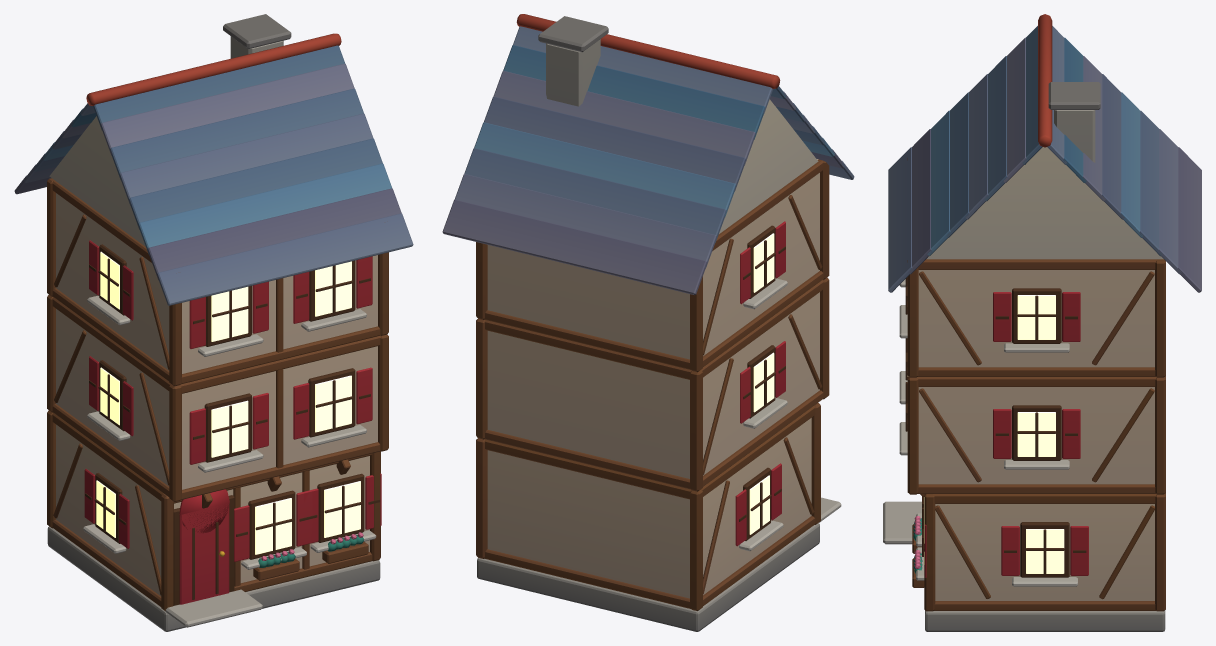
File: house_tall.glb
The picture shows the model from 3 angles, left to right: view 1: azimuth 30°, elevation 25°; view 2: azimuth 150°, elevation 25°; view 3: azimuth 270°, elevation 25°; orthographic projection. The views are drawn at different scales.
Parts seen in each view (by area): view 1: house_tall; view 2: house_tall; view 3: house_tall.
Part boxes in pixels (box(x1,y1,x2,y2)): house_tall: box(14, 14, 413, 631); house_tall: box(442, 14, 854, 631); house_tall: box(883, 14, 1201, 631).
Bounding box in the file's own units: 5.3 × 10.38 × 5.81.
